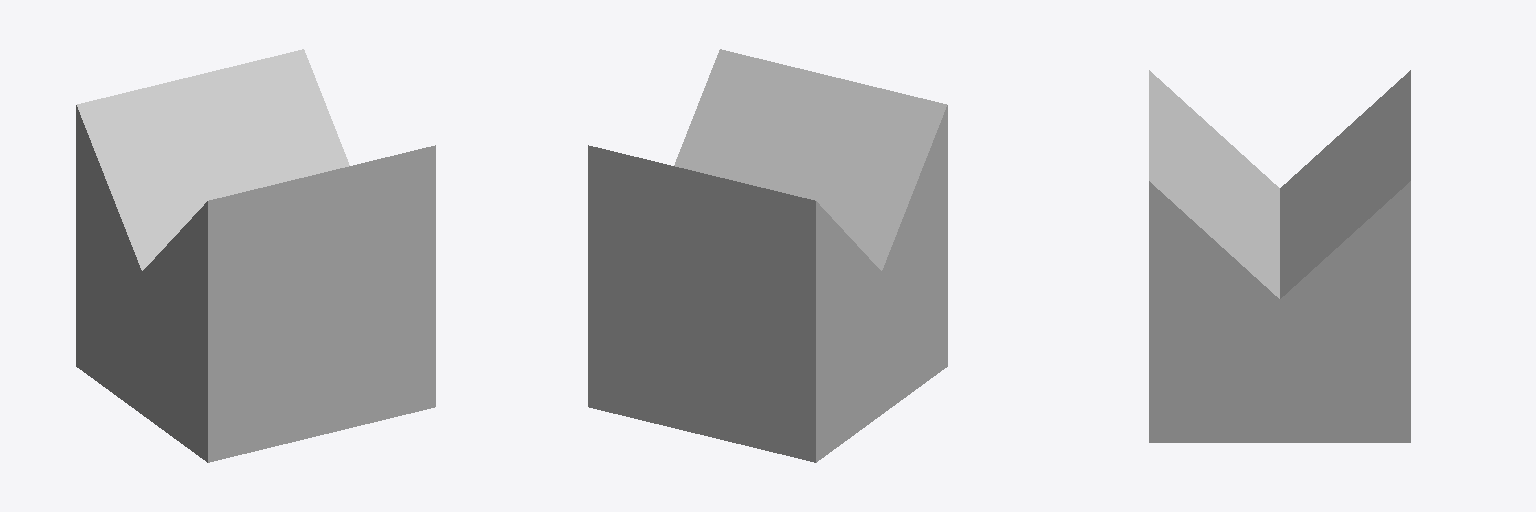
3 views of the same model, side by side, from view 1: azimuth 30°, elevation 25°; view 2: azimuth 150°, elevation 25°; view 3: azimuth 270°, elevation 25° (orthographic).
Visible parts, largest first — view 1: cube1; view 2: cube1; view 3: cube1.
Boxes of the visible parts, x1,y1,x2,y2 form: cube1: [76, 49, 435, 462]; cube1: [588, 49, 947, 462]; cube1: [1149, 70, 1410, 442].
Bounding box in the file's own units: 1 × 1.1 × 1.